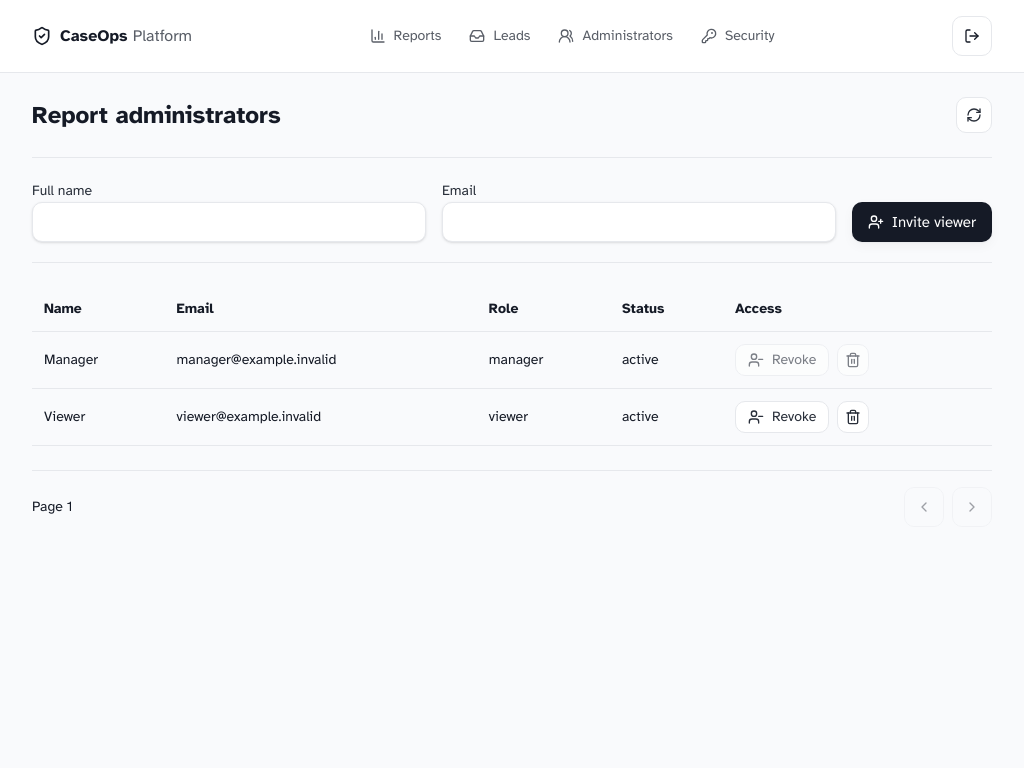
Test: explicit report administrator management › offers confirmed report-access deletion without silently removing an account
Expected: the text "viewer@example.invalid" is shown, 165,388 -> 477,446
Click the button named "Delete report access for Viewer": (853, 417) 837,401 -> 869,433
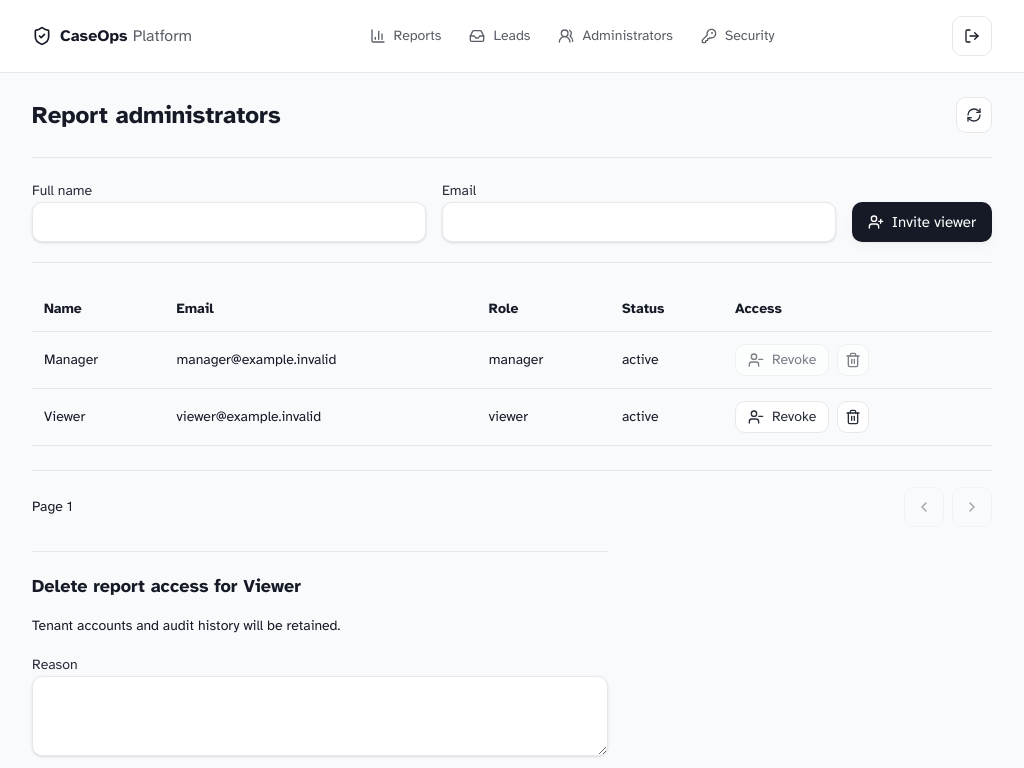
Result: the text "Tenant accounts and audit history will be retained." is shown at 32,617 -> 340,634
